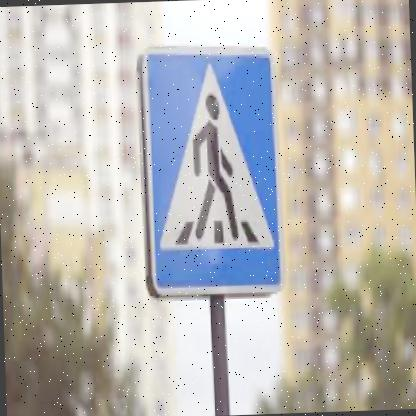crosswalk: (143, 36, 290, 292)
